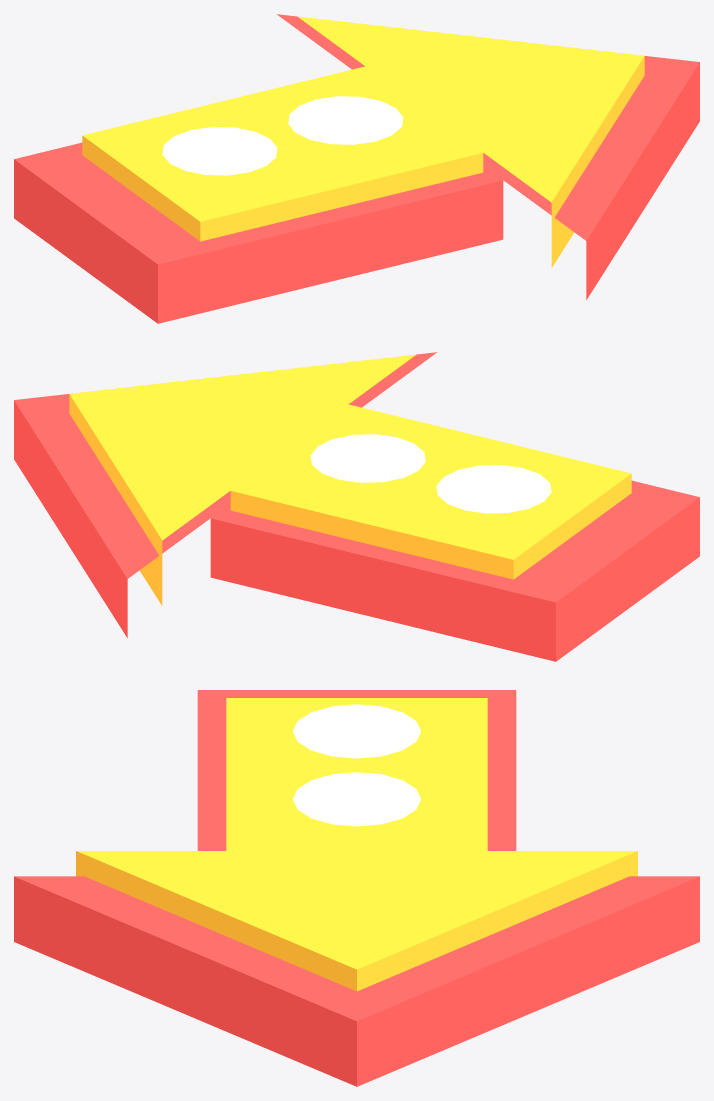
The model's file is pad_amber2red.glb.
3 views of the same model, one above another, from view 1: azimuth 30°, elevation 25°; view 2: azimuth 150°, elevation 25°; view 3: azimuth 270°, elevation 25° (orthographic). The views are drawn at different scales.
Parts seen in each view (by area): view 1: pad_amber2red; view 2: pad_amber2red; view 3: pad_amber2red.
Part boxes in pixels (x1=…): pad_amber2red: x1=14, y1=14, x2=699, y2=323; pad_amber2red: x1=14, y1=352, x2=699, y2=661; pad_amber2red: x1=14, y1=690, x2=699, y2=1086.
Bounding box in the file's own units: 0.039 × 0.0053 × 0.0342.
